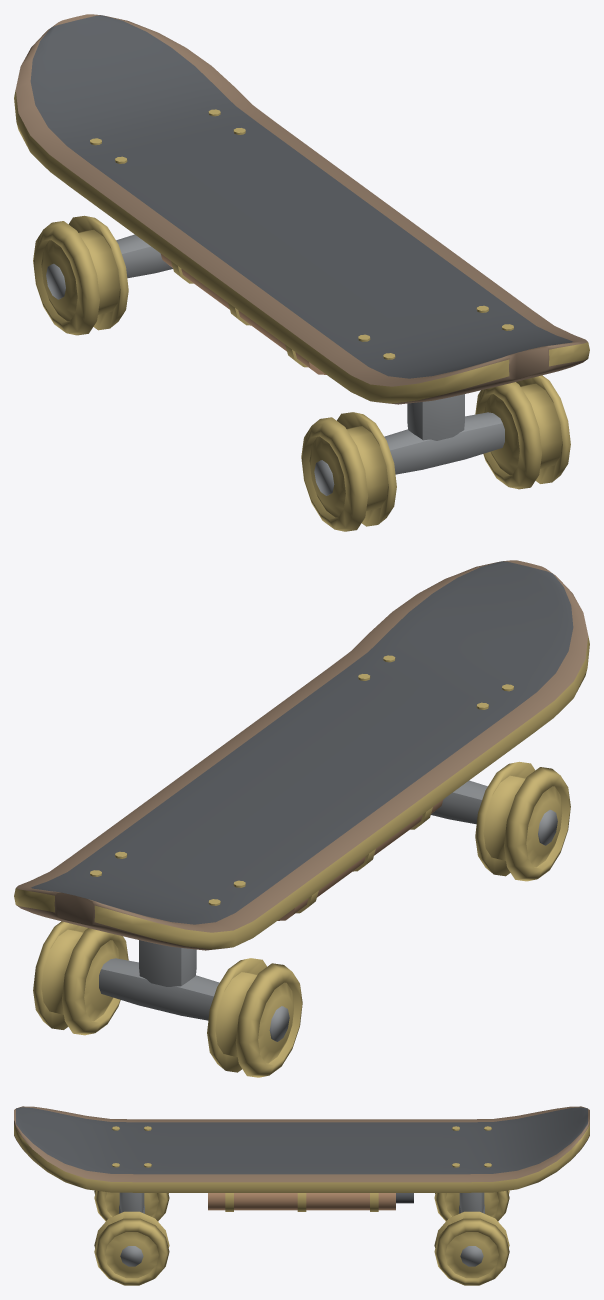
The model's file is skateboard.glb.
The picture shows the model from 3 angles, top to bottom: view 1: azimuth 30°, elevation 25°; view 2: azimuth 150°, elevation 25°; view 3: azimuth 270°, elevation 25°; orthographic projection. The views are drawn at different scales.
Parts seen in each view (by area): view 1: deck, wheel_fr, wheel_rr, wheel_fl, truck_f_mesh, truck_r_mesh; view 2: deck, wheel_fr, wheel_rr, wheel_rl, truck_r_mesh, truck_f_mesh; view 3: deck, wheel_fl, wheel_rl, wheel_fr, wheel_rr, truck_f_mesh, truck_r_mesh.
Boxes of the visible parts, x1,y1,x2,y2 form: deck: (14, 14, 589, 404); wheel_fr: (301, 412, 396, 531); wheel_rr: (33, 215, 128, 335); wheel_fl: (475, 375, 570, 489); truck_f_mesh: (384, 394, 504, 474); truck_r_mesh: (116, 234, 172, 278); deck: (14, 560, 589, 950); wheel_fr: (475, 761, 570, 881); wheel_rr: (207, 958, 302, 1077); wheel_rl: (33, 921, 128, 1035); truck_r_mesh: (99, 940, 219, 1020); truck_f_mesh: (431, 780, 487, 824); deck: (14, 1106, 589, 1211); wheel_fl: (94, 1211, 169, 1285); wheel_rl: (434, 1211, 509, 1285); wheel_fr: (94, 1190, 169, 1221); wheel_rr: (434, 1190, 509, 1221); truck_f_mesh: (119, 1192, 144, 1213); truck_r_mesh: (459, 1192, 484, 1213).
Bounding box in the file's own units: 0.3306 × 0.3108 × 1.15.
